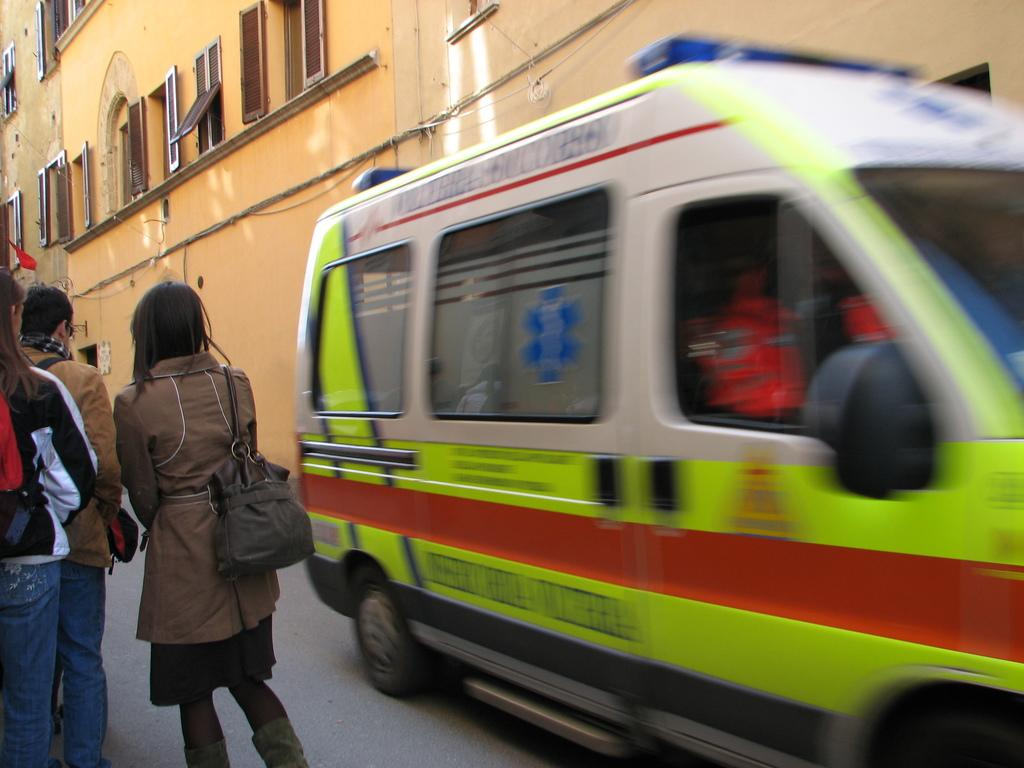Ambulance: (292, 31, 1023, 760)
